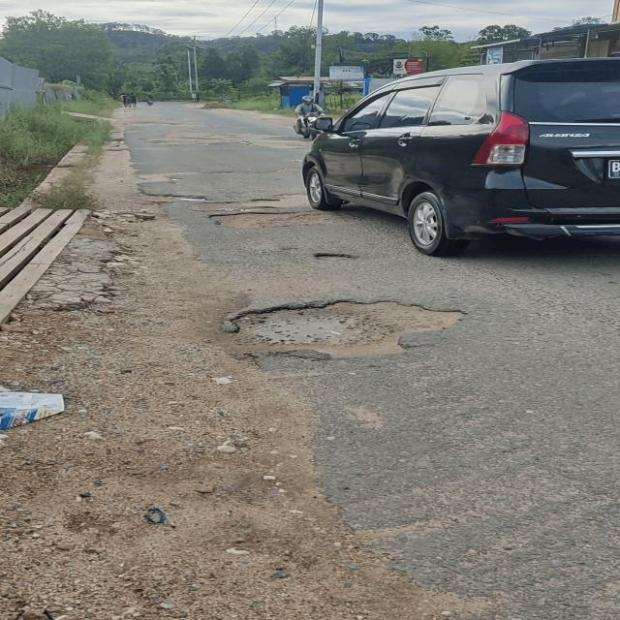lubang: (223, 301, 464, 357), (208, 195, 336, 230), (141, 179, 231, 205), (313, 252, 356, 259)
